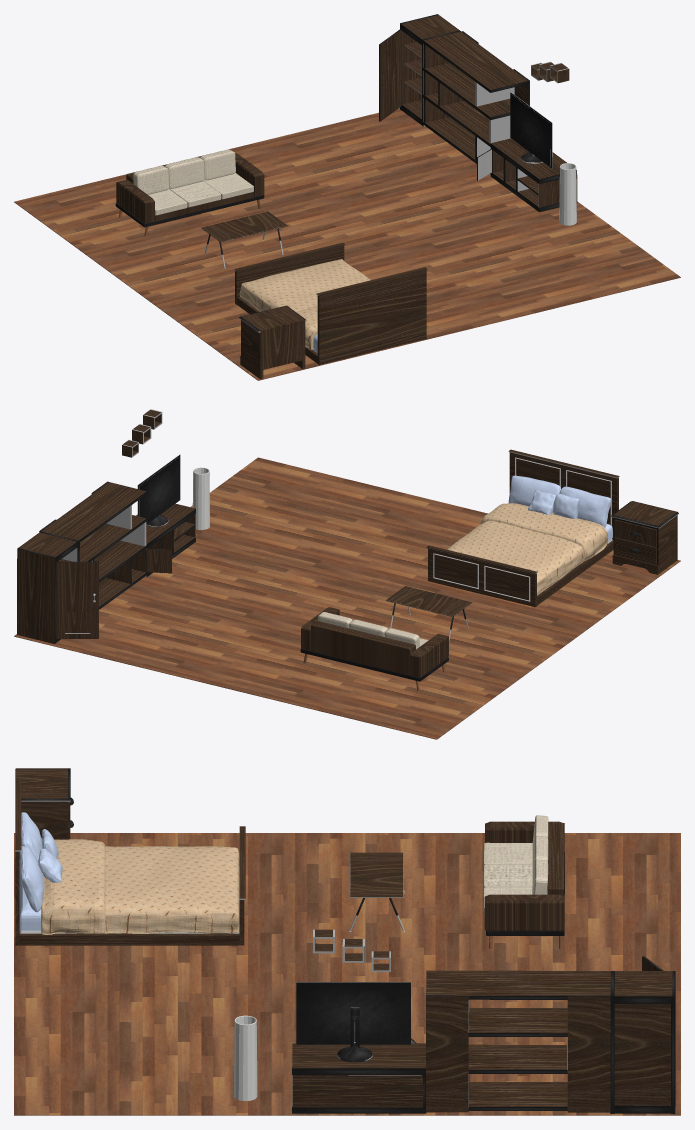
The model's file is T2 Set 2 Pos 10.glb.
The picture shows the model from 3 angles, top to bottom: view 1: azimuth 30°, elevation 25°; view 2: azimuth 150°, elevation 25°; view 3: azimuth 270°, elevation 25°; orthographic projection. The views are drawn at different scales.
Bounding box in the file's own units: 0.2923 × 0.0855 × 0.292.
Materials: 9 (8 with a texture image).
